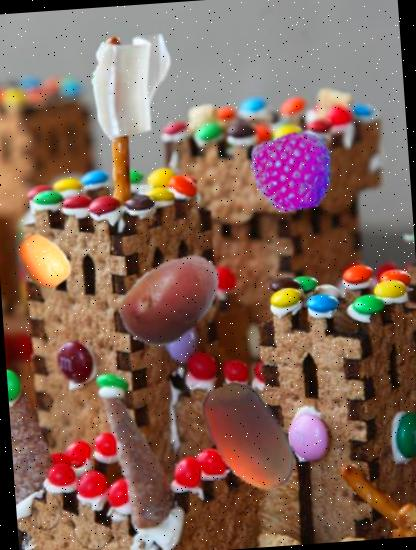Hazelnut: (186, 374, 314, 502)
Kumquats: (13, 230, 76, 292)
Potato: (112, 239, 230, 357)
Raspberry: (248, 127, 337, 216)
